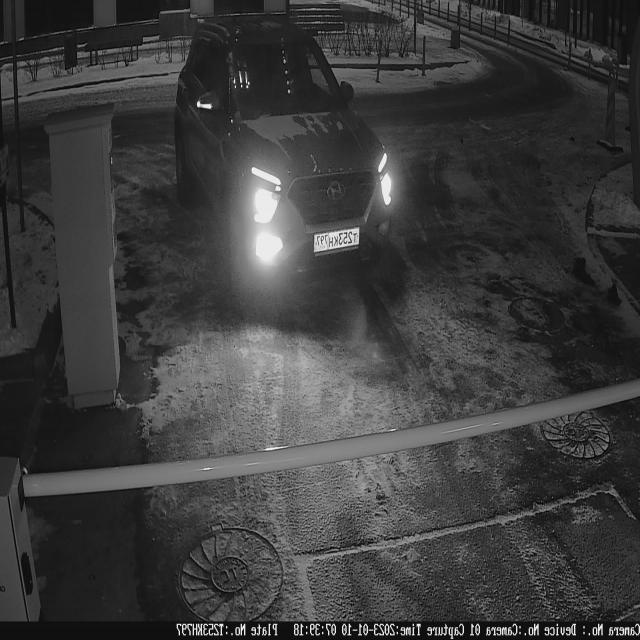car-plate-numbers: (313, 225, 362, 258)
